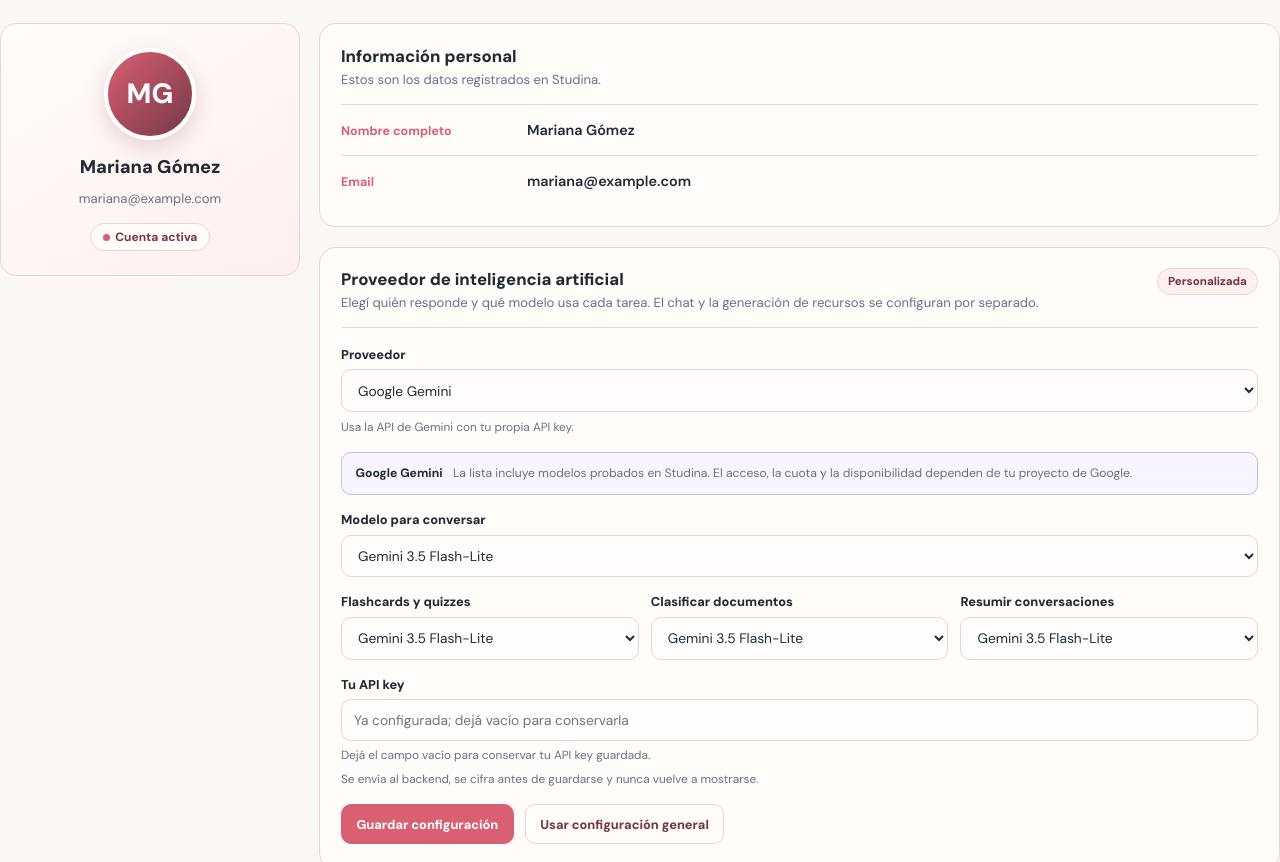
Test: ProfilePage AI settings › nunca muestra la credencial guardada y permite volver a la configuración general
(page scrolled)
expect the password field labelled "Tu API key" is empty: met, box top-left (341, 699), bottom-right (1258, 741)
Click the button "Usar configuración general".
click(625, 824)  # box top-left (525, 804), bottom-right (724, 844)
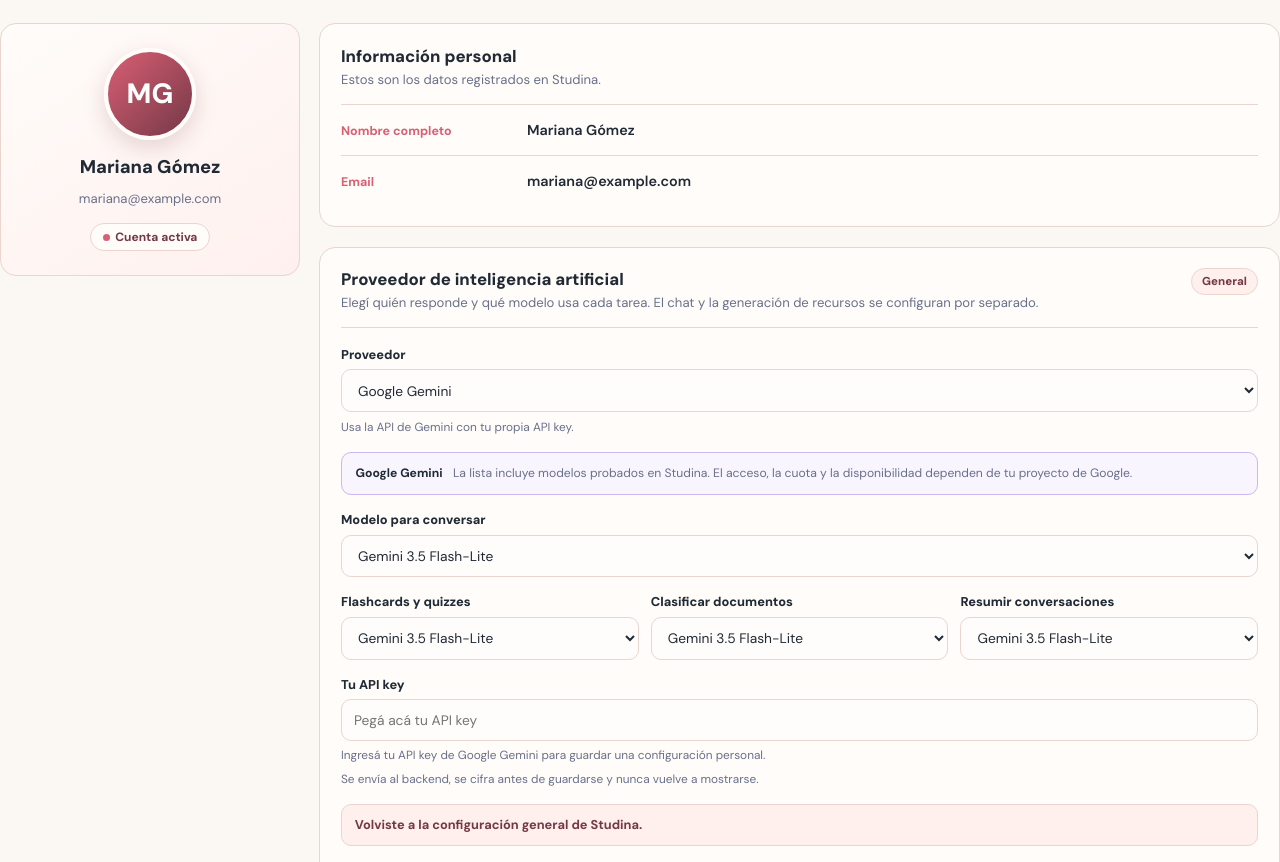
expect the text "Volviste a la configuración general de Studina." is shown: met, box top-left (341, 804), bottom-right (1258, 846)
